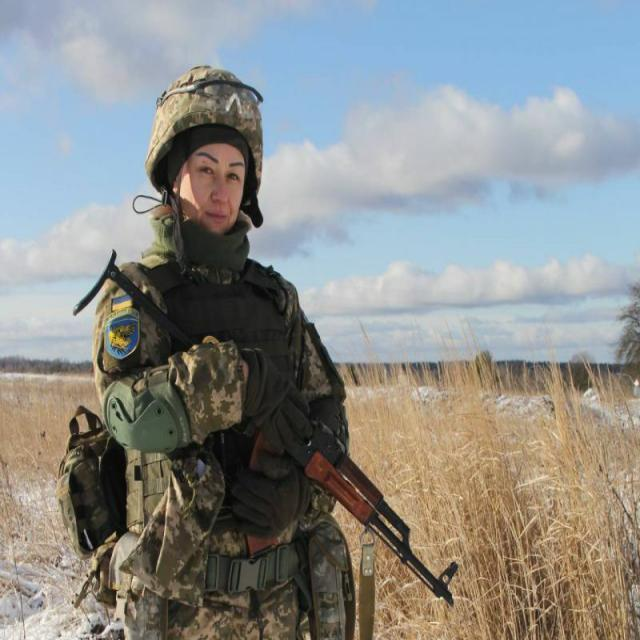Rifle: (73, 249, 460, 610)
